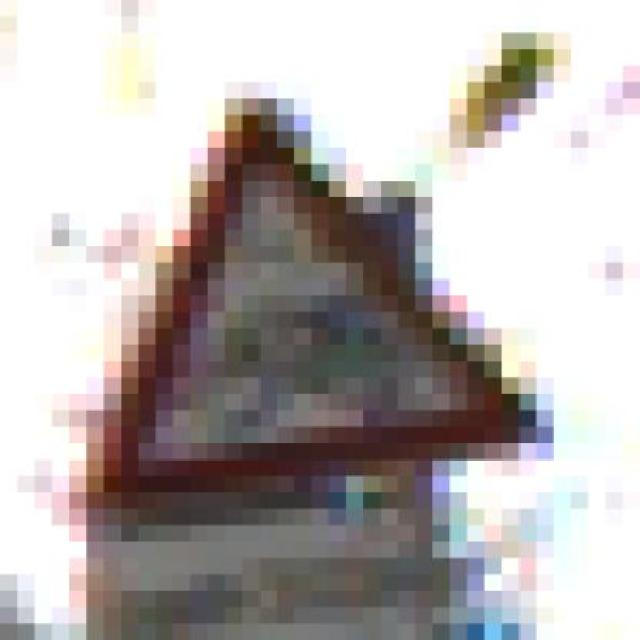CYCLE ROUTE AHEAD WARNING: (86, 82, 571, 509)
